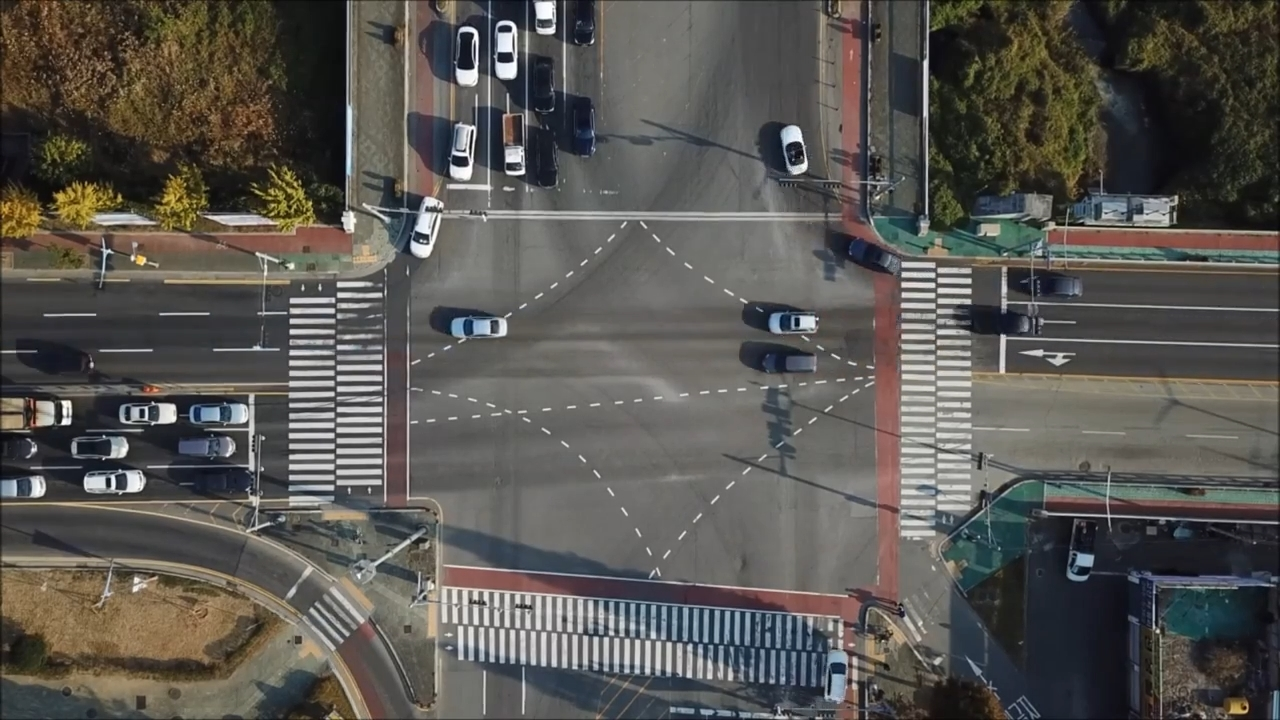car: (842, 234, 901, 277), (408, 196, 444, 259), (1, 396, 70, 426), (1067, 515, 1097, 580), (186, 463, 248, 494), (454, 25, 481, 90), (778, 126, 812, 177), (492, 21, 519, 85), (1022, 272, 1083, 299), (81, 468, 146, 493), (534, 124, 559, 189), (447, 123, 475, 181), (976, 309, 1036, 336), (532, 50, 556, 114), (502, 113, 526, 175), (116, 401, 177, 423), (176, 432, 234, 455), (68, 435, 125, 458), (447, 316, 509, 337), (571, 94, 593, 153), (767, 312, 820, 336), (187, 402, 246, 423), (763, 352, 817, 374), (571, 1, 595, 43), (1, 476, 45, 497), (533, 1, 559, 32), (1, 438, 35, 456)
